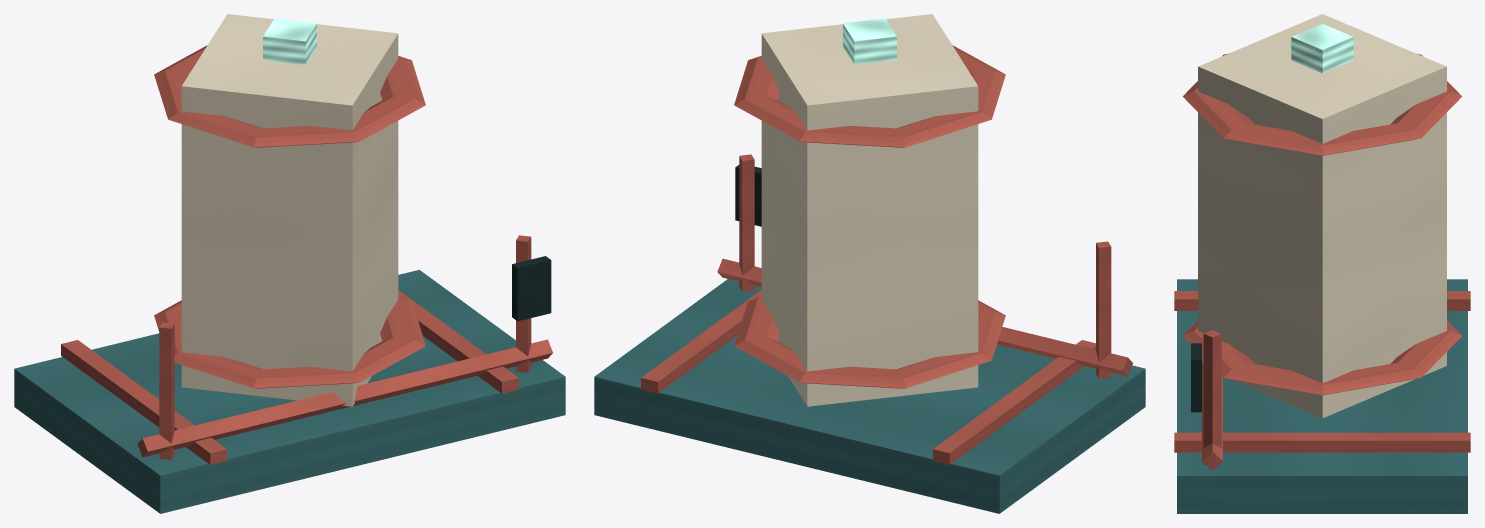
The model's file is atlas100-s034-a02.lod2.glb.
3 views of the same model, side by side, from view 1: azimuth 30°, elevation 25°; view 2: azimuth 150°, elevation 25°; view 3: azimuth 270°, elevation 25° (orthographic).
Visible parts, largest first — view 1: atlas100-s034-a02:part-003, atlas100-s034-a02:part-000, atlas100-s034-a02:part-005, atlas100-s034-a02:part-011, atlas100-s034-a02:part-004, atlas100-s034-a02:part-001, atlas100-s034-a02:part-002, atlas100-s034-a02:part-010, atlas100-s034-a02:part-006, atlas100-s034-a02:part-007, atlas100-s034-a02:part-009; view 2: atlas100-s034-a02:part-003, atlas100-s034-a02:part-000, atlas100-s034-a02:part-005, atlas100-s034-a02:part-004, atlas100-s034-a02:part-001, atlas100-s034-a02:part-011, atlas100-s034-a02:part-002, atlas100-s034-a02:part-006, atlas100-s034-a02:part-007, atlas100-s034-a02:part-009, atlas100-s034-a02:part-010; view 3: atlas100-s034-a02:part-003, atlas100-s034-a02:part-000, atlas100-s034-a02:part-005, atlas100-s034-a02:part-004, atlas100-s034-a02:part-002, atlas100-s034-a02:part-006, atlas100-s034-a02:part-009, atlas100-s034-a02:part-001, atlas100-s034-a02:part-010, atlas100-s034-a02:part-011.
Boxes of the visible parts, x1,y1,x2,y2 form: atlas100-s034-a02:part-003: (181, 14, 398, 406); atlas100-s034-a02:part-000: (14, 270, 565, 513); atlas100-s034-a02:part-005: (154, 45, 425, 147); atlas100-s034-a02:part-011: (137, 339, 552, 457); atlas100-s034-a02:part-004: (154, 297, 425, 388); atlas100-s034-a02:part-001: (61, 340, 226, 464); atlas100-s034-a02:part-002: (398, 290, 518, 393); atlas100-s034-a02:part-010: (512, 256, 551, 321); atlas100-s034-a02:part-006: (263, 18, 316, 64); atlas100-s034-a02:part-007: (159, 322, 174, 459); atlas100-s034-a02:part-009: (516, 235, 531, 372); atlas100-s034-a02:part-003: (761, 14, 978, 406); atlas100-s034-a02:part-000: (594, 279, 1145, 513); atlas100-s034-a02:part-005: (734, 45, 1005, 147); atlas100-s034-a02:part-004: (734, 297, 1005, 388); atlas100-s034-a02:part-001: (933, 340, 1095, 464); atlas100-s034-a02:part-011: (717, 258, 1132, 376); atlas100-s034-a02:part-002: (641, 290, 761, 393); atlas100-s034-a02:part-006: (843, 18, 896, 64); atlas100-s034-a02:part-007: (1096, 241, 1111, 378); atlas100-s034-a02:part-009: (739, 154, 754, 291); atlas100-s034-a02:part-010: (735, 165, 761, 226); atlas100-s034-a02:part-003: (1198, 14, 1446, 418); atlas100-s034-a02:part-000: (1177, 279, 1467, 513); atlas100-s034-a02:part-005: (1183, 53, 1461, 155); atlas100-s034-a02:part-004: (1183, 320, 1461, 395); atlas100-s034-a02:part-002: (1174, 432, 1470, 452); atlas100-s034-a02:part-006: (1291, 24, 1353, 73); atlas100-s034-a02:part-009: (1203, 330, 1221, 464); atlas100-s034-a02:part-001: (1174, 291, 1470, 310); atlas100-s034-a02:part-010: (1191, 343, 1201, 412); atlas100-s034-a02:part-011: (1202, 364, 1222, 470).
Size of the model in its own units: 2.88 by 2.59 by 1.84.
5 materials, 5 textured.
